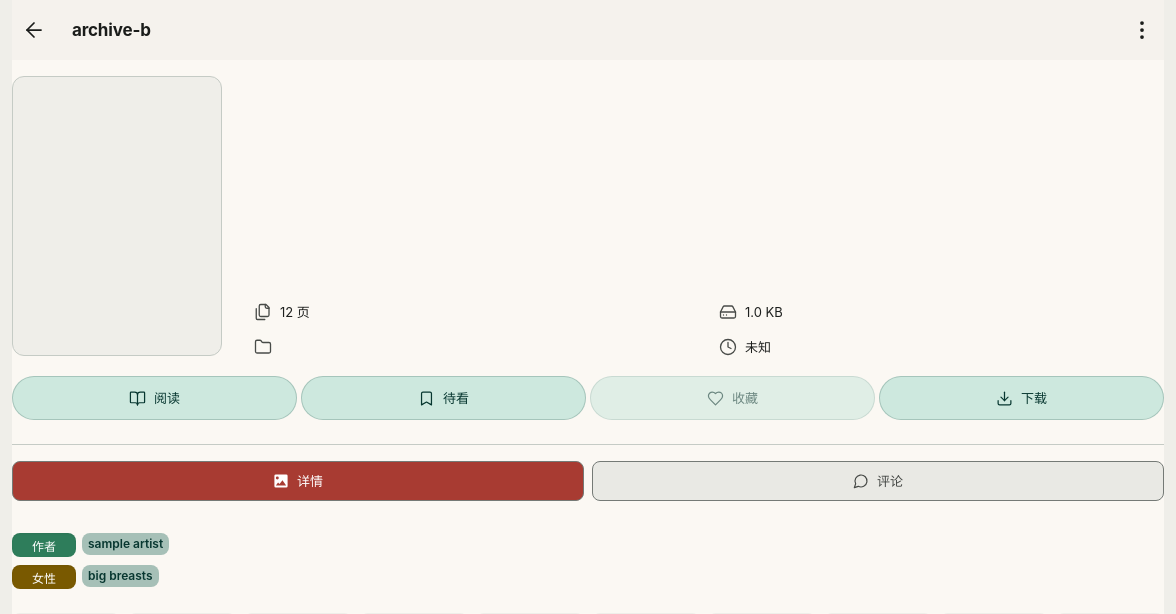
archive detail route › serializes downloads per detail and does not keep B busy or unlock it after A completes
Earlier steps of the test are not shown.
Expected: the heading "archive-b" is shown, x1=72 y1=20 x2=151 y2=40
Click the button with aria-label "下载档案". click: click(1022, 398)
box: x1=879 y1=376 x2=1164 y2=420
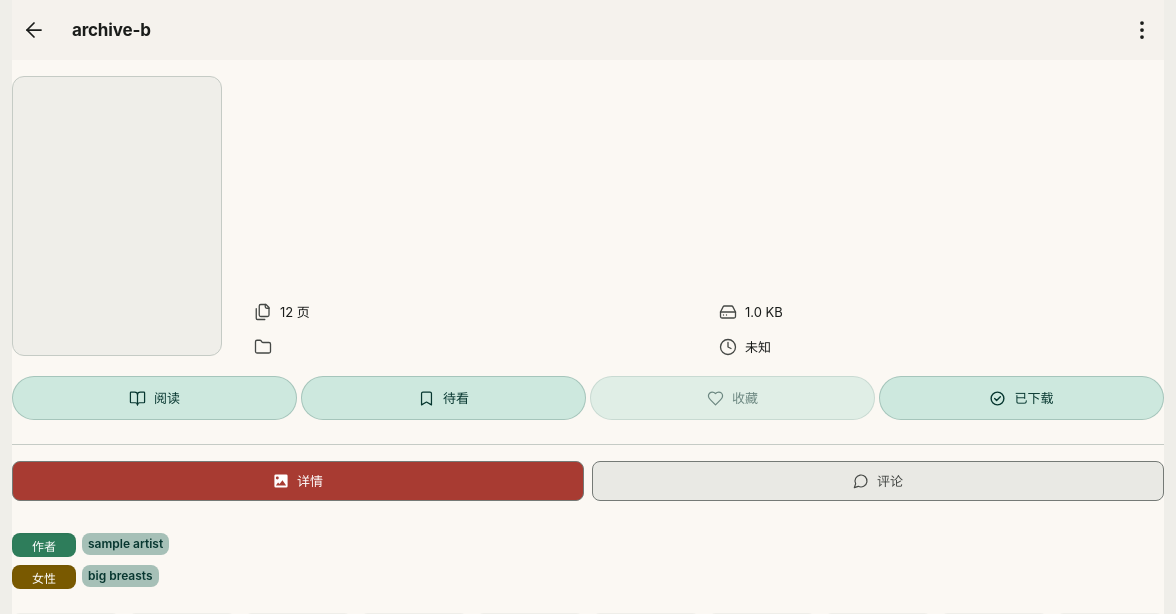
Now the button named "正在下载" is disabled, box x1=879 y1=376 x2=1164 y2=420
Now the button "已下载" is disabled, box x1=879 y1=376 x2=1164 y2=420
